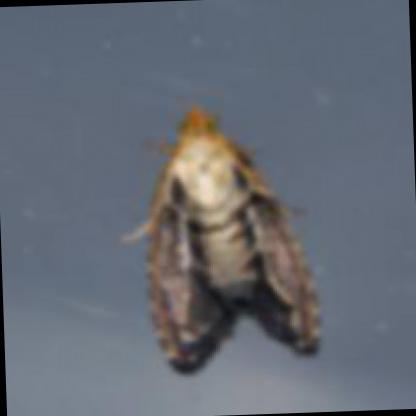Leaf Webber: (140, 109, 327, 375)
